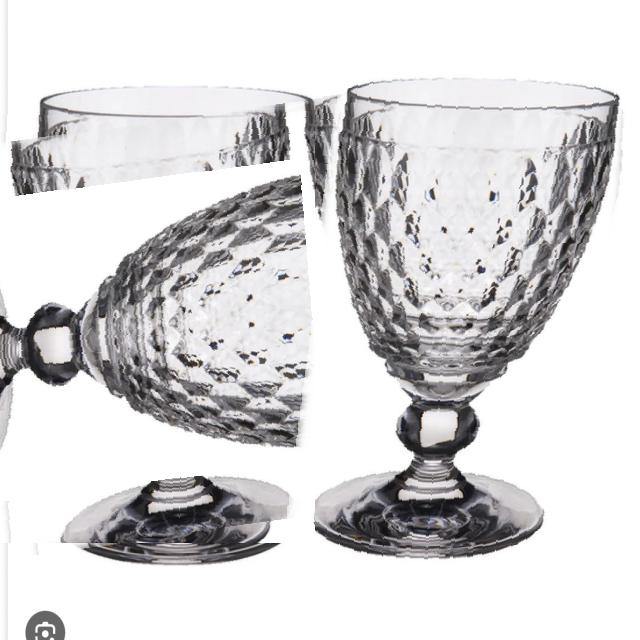recyclable: (315, 52, 632, 595), (0, 106, 393, 543)
